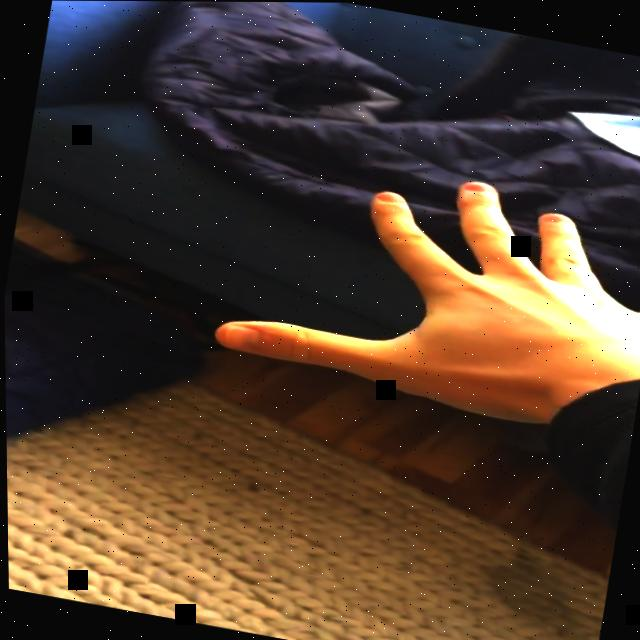Paper: (201, 134, 640, 443)
